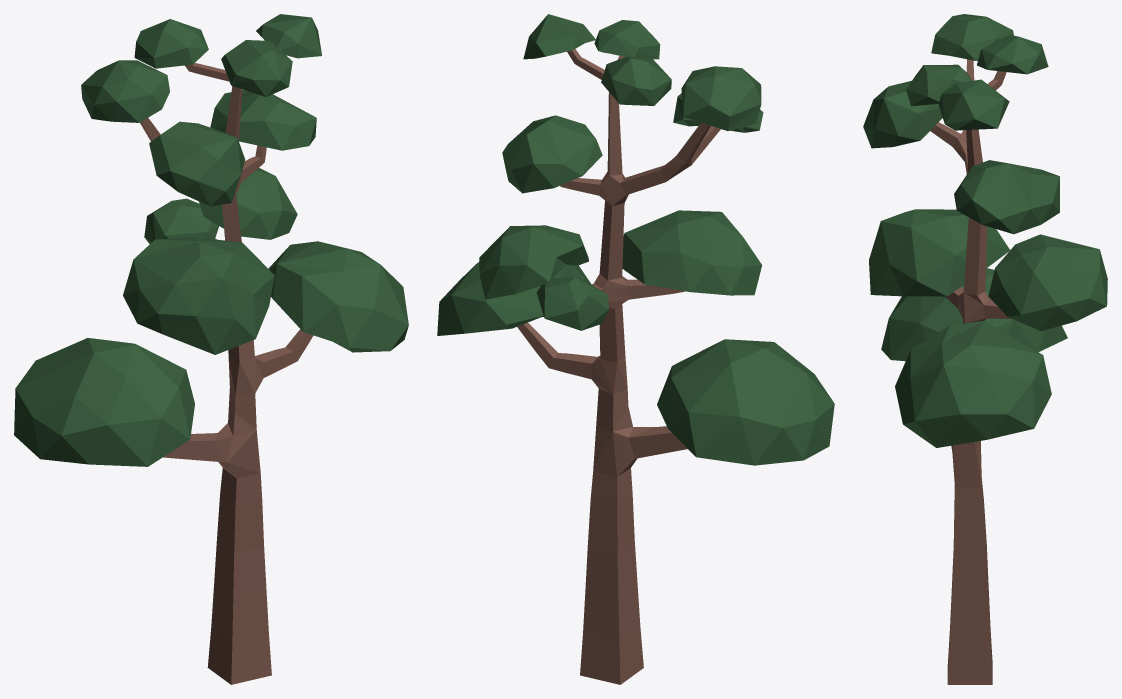
Rendered from tree5.glb.
3 renders of one model, left to right at view 1: azimuth 30°, elevation 25°; view 2: azimuth 150°, elevation 25°; view 3: azimuth 270°, elevation 25°, orthographic. The views are drawn at different scales.
Parts seen in each view (by area): view 1: Tree6_1; view 2: Tree6_1; view 3: Tree6_1.
Part boxes in pixels (bbox=[...]): Tree6_1: bbox=[14, 14, 408, 684]; Tree6_1: bbox=[437, 14, 834, 684]; Tree6_1: bbox=[863, 14, 1107, 684].
Size of the model in its own units: 4.54 by 7.62 by 2.73.
